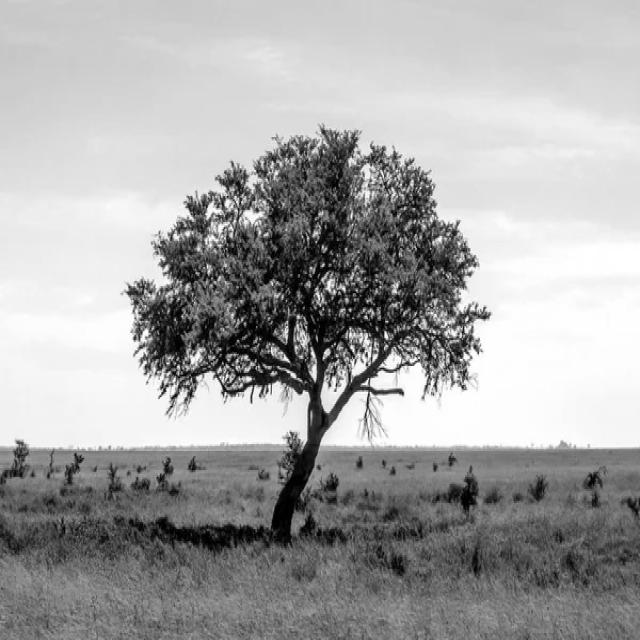Tree: (127, 127, 490, 542)
